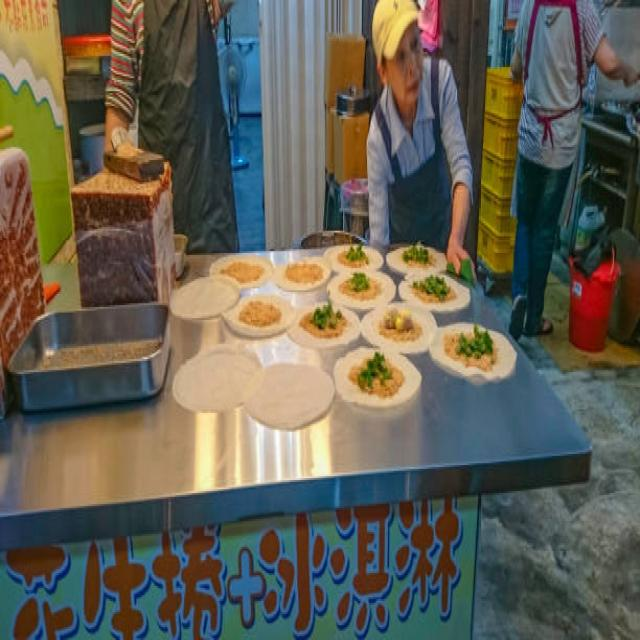Emperan: (0, 118, 625, 640)
